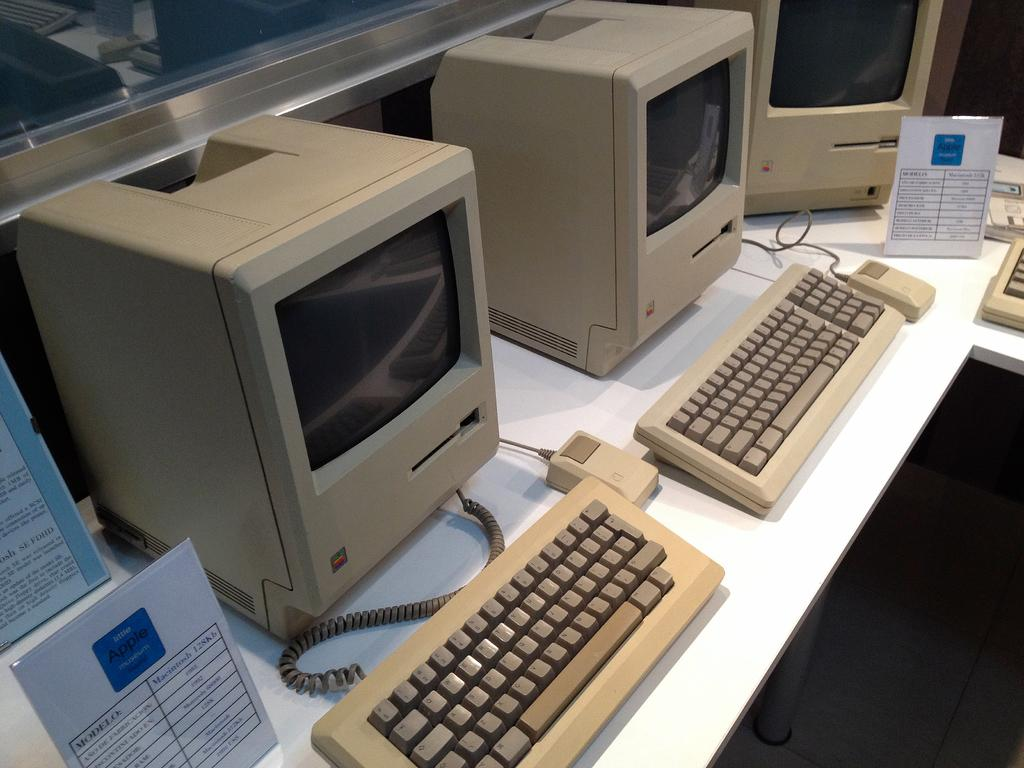Computer-keyboard: (309, 470, 726, 767), (632, 257, 908, 520), (975, 236, 1023, 341)
Computer-monitor: (80, 142, 499, 622), (428, 0, 753, 380), (680, 0, 946, 218)
